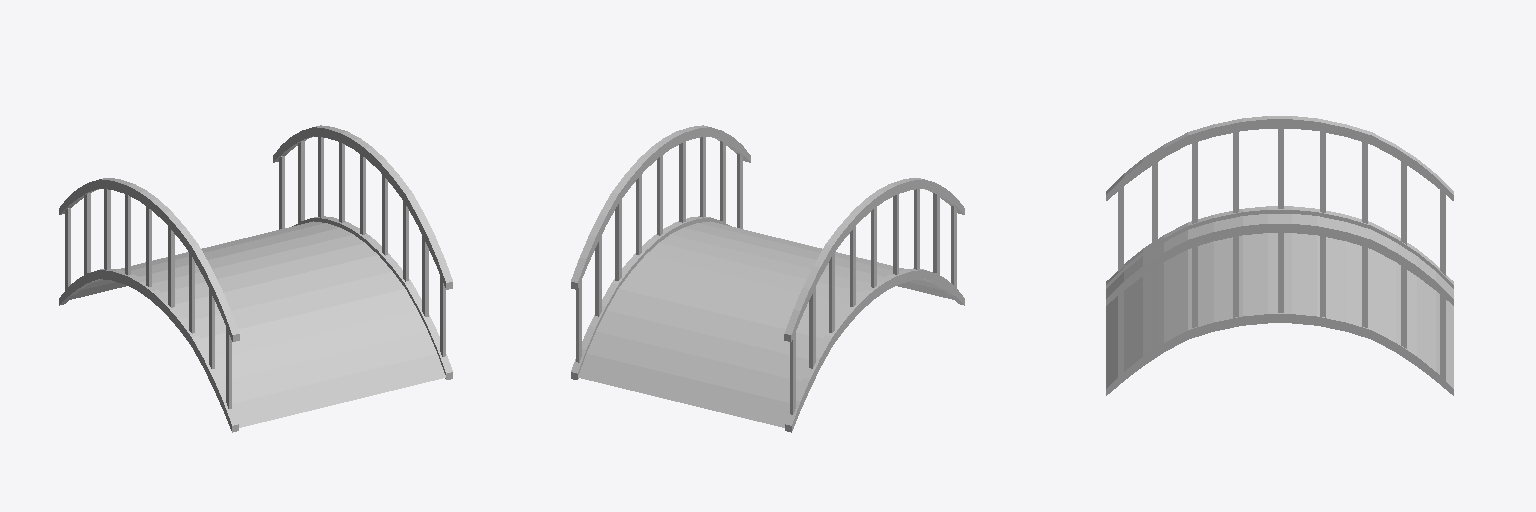
The model's file is bridge.obj.
3 views of the same model, side by side, from view 1: azimuth 30°, elevation 25°; view 2: azimuth 150°, elevation 25°; view 3: azimuth 270°, elevation 25° (orthographic).
Parts seen in each view (by area): view 1: bridge; view 2: bridge; view 3: bridge.
Boxes of the visible parts, x1=… form: bridge: x1=59, y1=125, x2=452, y2=432; bridge: x1=571, y1=125, x2=964, y2=432; bridge: x1=1106, y1=116, x2=1453, y2=395.
Size of the model in its own units: 1.73 by 1.29 by 2.35.